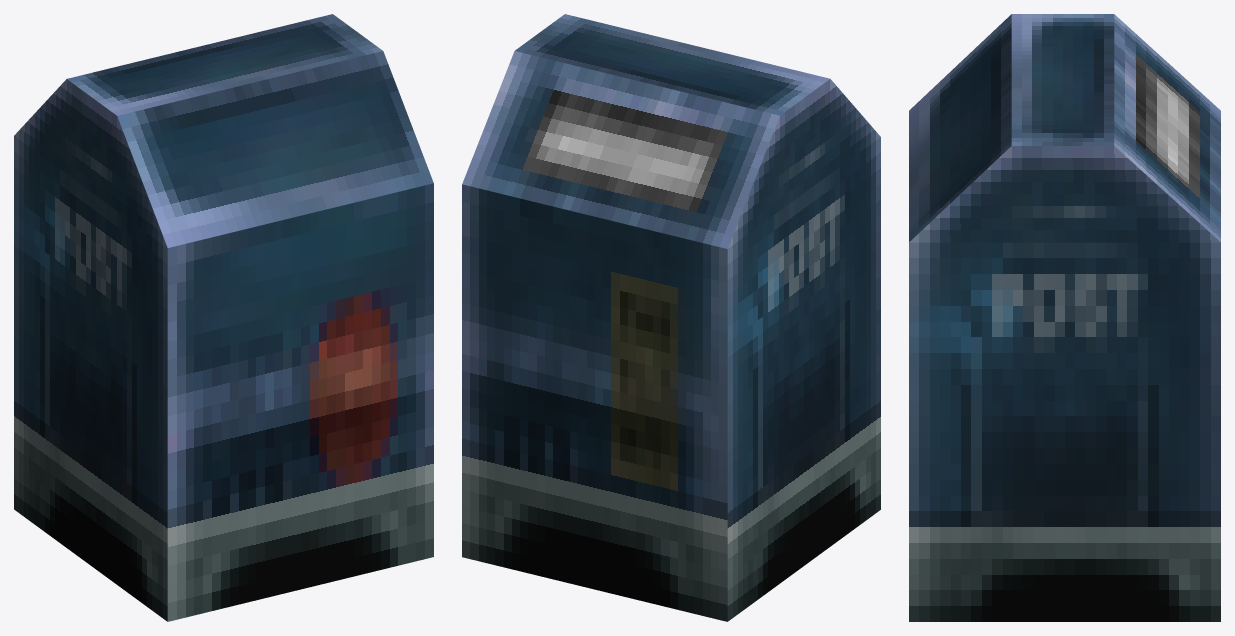
The picture shows the model from 3 angles, left to right: view 1: azimuth 30°, elevation 25°; view 2: azimuth 150°, elevation 25°; view 3: azimuth 270°, elevation 25°; orthographic projection.
Parts seen in each view (by area): view 1: prim169-mailbox; view 2: prim169-mailbox; view 3: prim169-mailbox.
Boxes of the visible parts, box(x1,y1,x2,y2) form: prim169-mailbox: box(14, 14, 433, 621); prim169-mailbox: box(462, 14, 880, 621); prim169-mailbox: box(909, 14, 1220, 621).
Bounding box in the file's own units: 76 × 128 × 76.
Materials: 1 (1 with a texture image).
